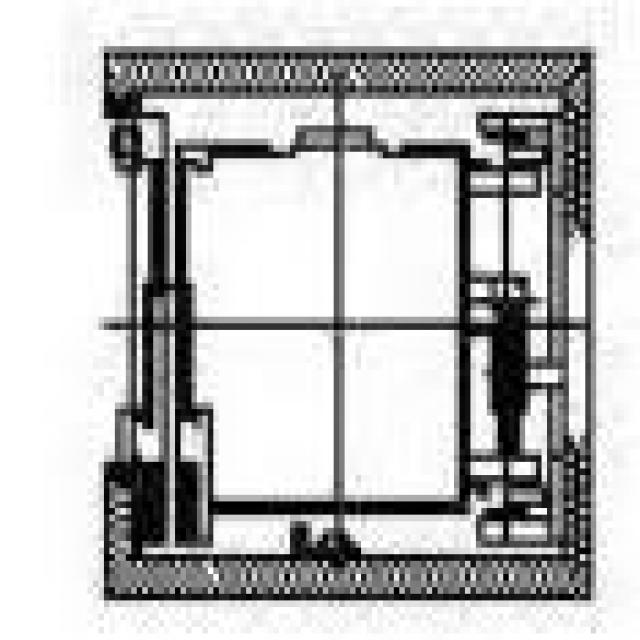lift: (93, 46, 585, 594)
